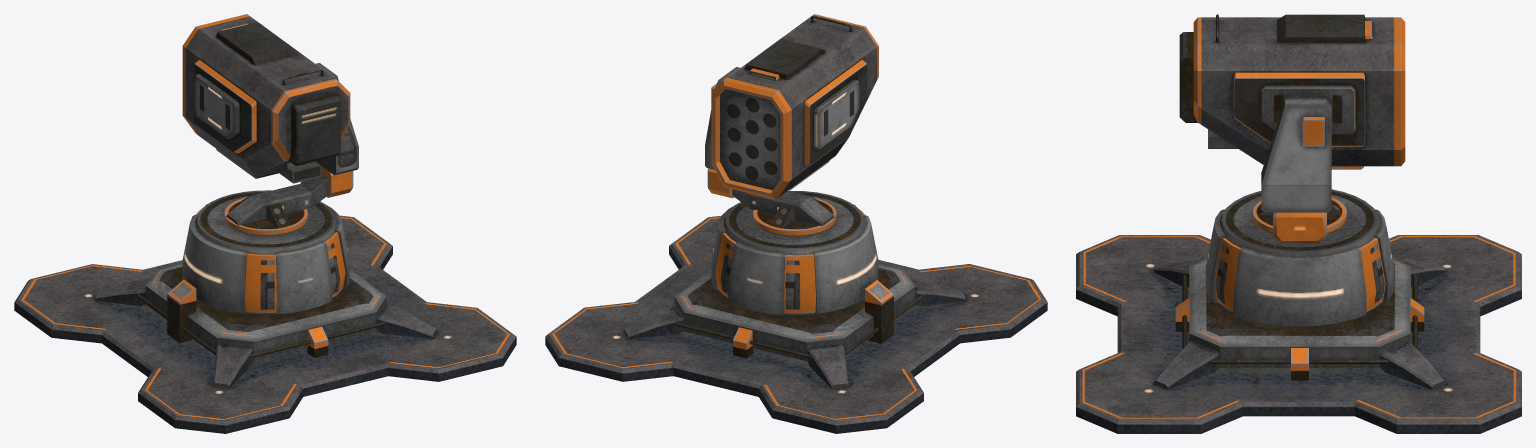
File: turret_rocket.glb
3 views of the same model, side by side, from view 1: azimuth 30°, elevation 25°; view 2: azimuth 150°, elevation 25°; view 3: azimuth 270°, elevation 25° (orthographic). The views are drawn at different scales.
Parts seen in each view (by area): view 1: base_low, launcher_low, quad_plattform_low, mid_shell_low, mid_cover_low, feet_low, launcher_back_plate_low, mid_inner_low, launcher_base_03_low, launcher_inner_low, launcher_top_plate_low, launcher_outer_low (+7 smaller); view 2: base_low, launcher_low, quad_plattform_low, mid_shell_low, mid_cover_low, feet_low, mid_inner_low, launcher_inner_low, launcher_outer_low, launcher_top_plate_low, launcher_base_03_low, console_low (+3 smaller); view 3: base_low, launcher_low, mid_shell_low, quad_plattform_low, launcher_suspension_big_low, feet_low, mid_cover_low, launcher_inner_low, launcher_outer_low, mid_inner_low, launcher_top_plate_low, launcher_suspension_small_low (+6 smaller).
Boxes of the visible parts, x1,y1,x2,y2 form: base_low: [14, 215, 516, 433]; launcher_low: [182, 14, 350, 177]; quad_plattform_low: [146, 263, 386, 360]; mid_shell_low: [182, 203, 349, 314]; mid_cover_low: [195, 190, 336, 254]; feet_low: [95, 277, 436, 387]; launcher_back_plate_low: [288, 93, 340, 165]; mid_inner_low: [195, 208, 345, 313]; launcher_base_03_low: [226, 173, 328, 225]; launcher_inner_low: [193, 60, 256, 153]; launcher_top_plate_low: [216, 22, 296, 65]; launcher_outer_low: [194, 74, 239, 139]; base_low: [545, 215, 1047, 433]; launcher_low: [711, 14, 878, 199]; quad_plattform_low: [674, 264, 915, 361]; mid_shell_low: [711, 204, 878, 315]; mid_cover_low: [724, 191, 865, 255]; feet_low: [624, 278, 965, 388]; mid_inner_low: [715, 209, 865, 313]; launcher_inner_low: [804, 60, 867, 166]; launcher_outer_low: [814, 79, 859, 150]; launcher_top_plate_low: [745, 39, 825, 79]; launcher_base_03_low: [732, 189, 834, 225]; console_low: [865, 280, 893, 343]; base_low: [1076, 235, 1521, 433]; launcher_low: [1193, 17, 1405, 166]; mid_shell_low: [1205, 209, 1394, 327]; quad_plattform_low: [1189, 259, 1410, 367]; launcher_suspension_big_low: [1261, 98, 1331, 212]; feet_low: [1154, 260, 1445, 389]; mid_cover_low: [1220, 189, 1379, 256]; launcher_inner_low: [1234, 72, 1364, 146]; launcher_outer_low: [1261, 85, 1355, 134]; mid_inner_low: [1214, 207, 1385, 311]; launcher_top_plate_low: [1277, 14, 1365, 42]; launcher_suspension_small_low: [1273, 212, 1326, 243].
Size of the model in its own units: 551 by 433 by 552.
Materials: 1 (1 with a texture image).
